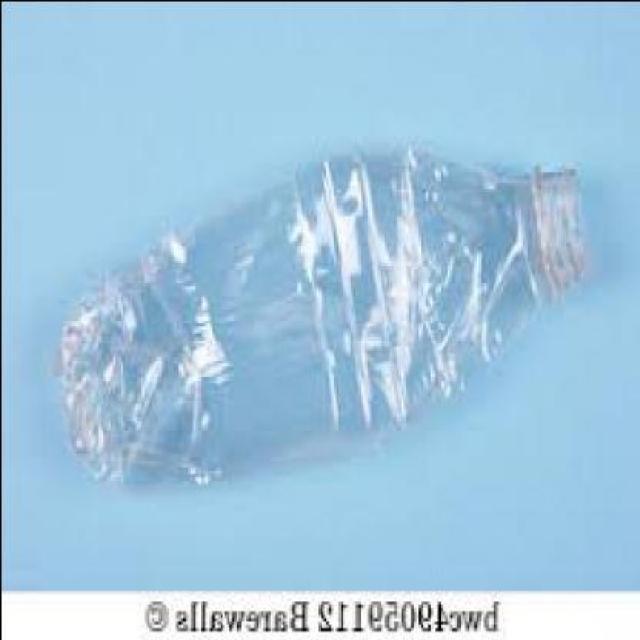PLASTIC: (60, 141, 589, 479)
